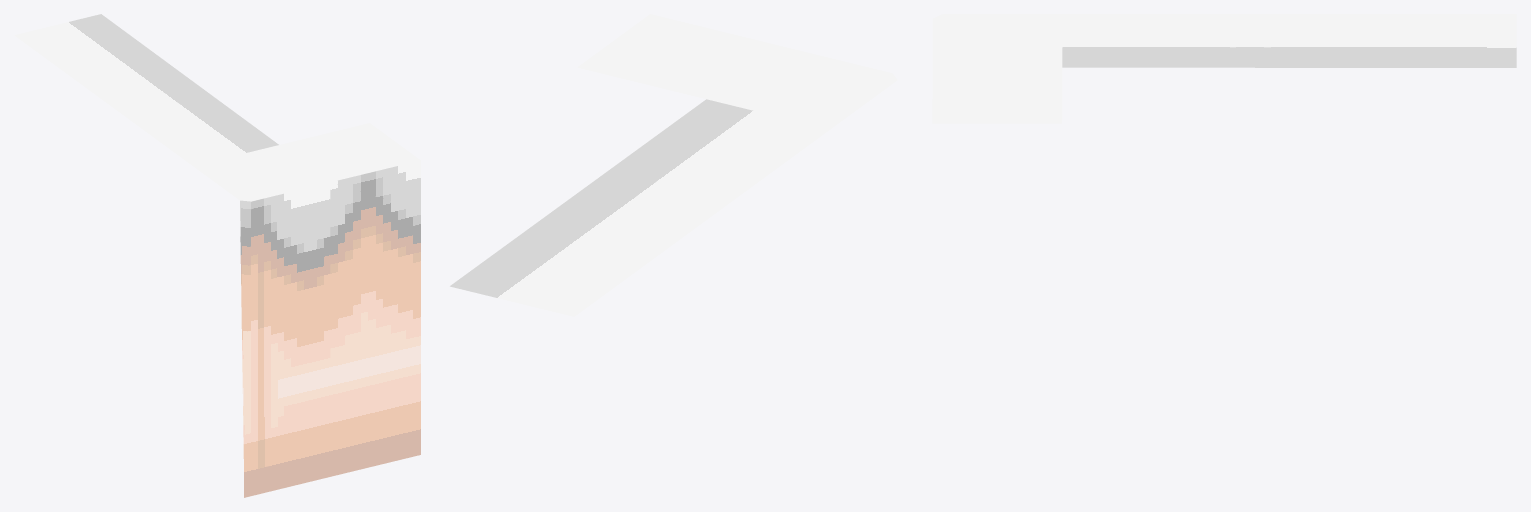
3 renders of one model, left to right at view 1: azimuth 30°, elevation 25°; view 2: azimuth 150°, elevation 25°; view 3: azimuth 270°, elevation 25°, orthographic. The views are drawn at different scales.
Size of the model in its own units: 1 by 1.59 by 2.25.
Materials: 1 (1 with a texture image).
